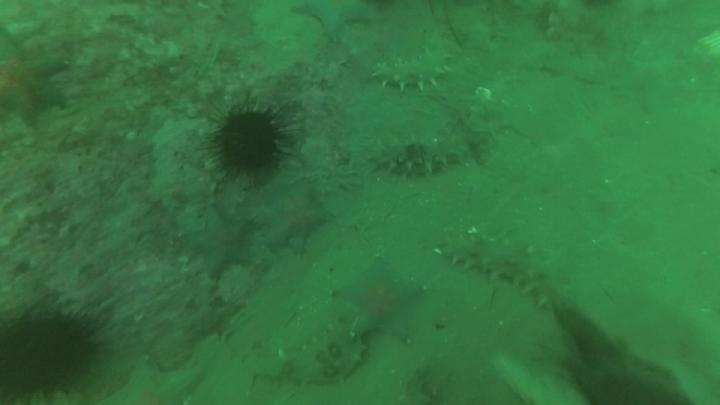echinus: (0, 304, 104, 404), (207, 102, 292, 181)
holothurian: (439, 232, 575, 317), (365, 130, 475, 182), (368, 42, 457, 95)
starfish: (333, 258, 426, 344), (0, 24, 72, 125), (185, 202, 259, 279), (257, 181, 334, 254), (98, 354, 207, 404), (290, 1, 376, 42)
